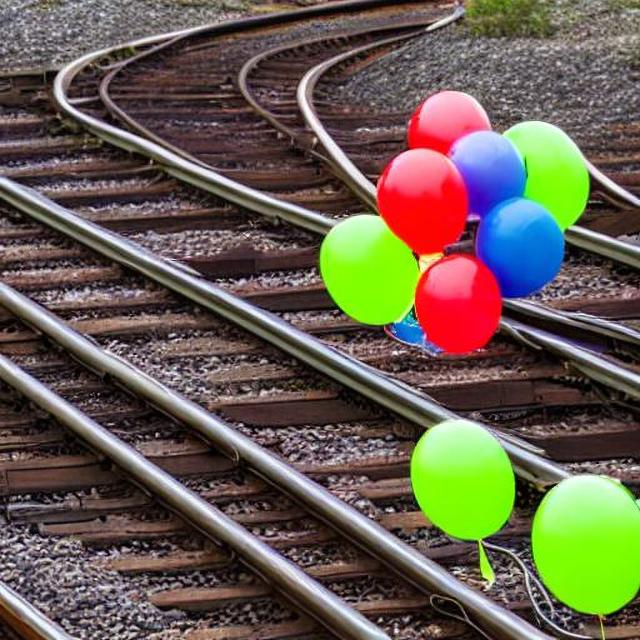balloon: (316, 92, 591, 380), (403, 410, 519, 576), (520, 470, 636, 623), (312, 208, 424, 332)
